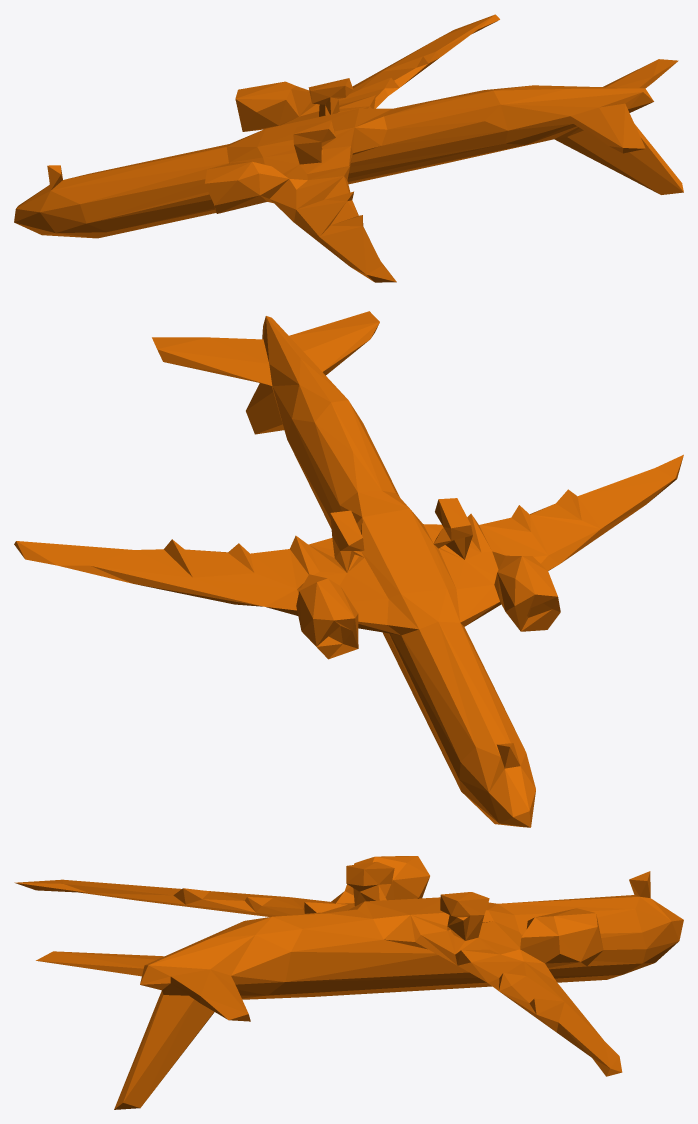
3 renders of one model, top to bottom at view 1: azimuth 30°, elevation 25°; view 2: azimuth 150°, elevation 25°; view 3: azimuth 270°, elevation 25°, orthographic. The views are drawn at different scales.
Bounding box in the file's own units: 4871 × 1790 × 4479.
